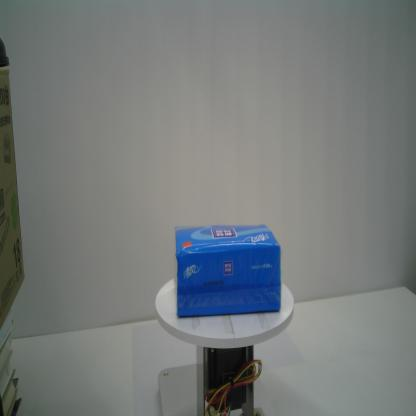Tissue: (172, 222, 282, 317)
